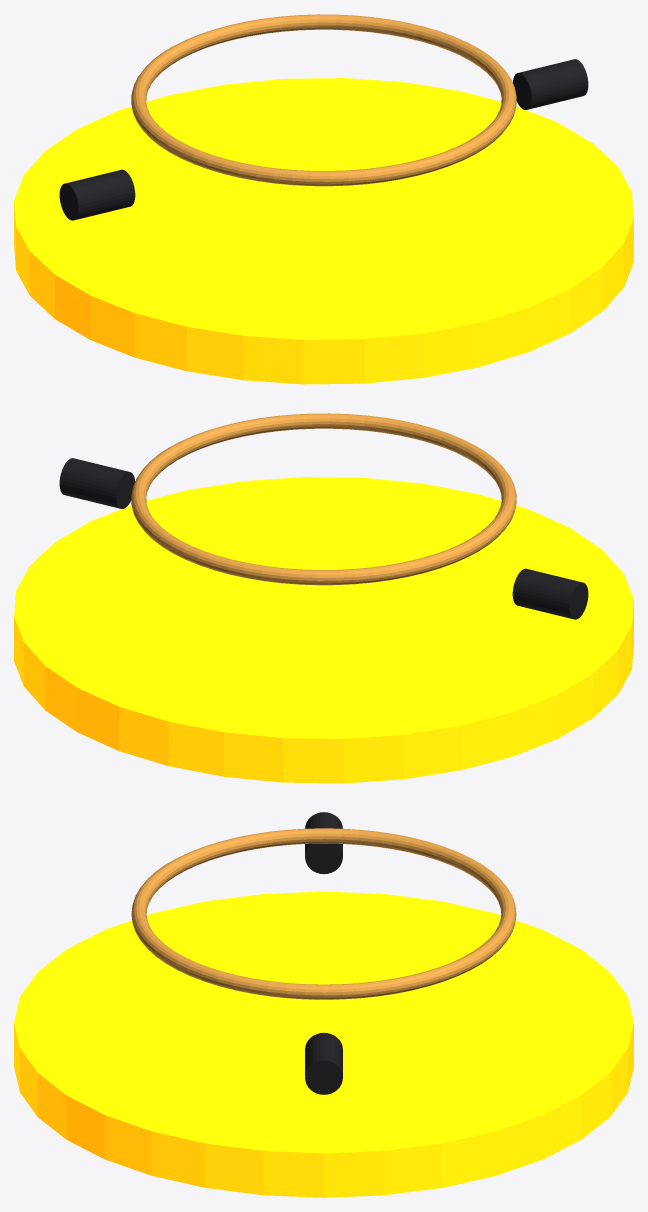
Rendered from fitness_jump_rope.glb.
The picture shows the model from 3 angles, top to bottom: view 1: azimuth 30°, elevation 25°; view 2: azimuth 150°, elevation 25°; view 3: azimuth 270°, elevation 25°; orthographic projection.
Parts seen in each view (by area): view 1: 02_18_Popular_Fitness_Jump_Rope_ROOT_base, 02_18_Popular_Fitness_Jump_Rope_part_01, 02_18_Popular_Fitness_Jump_Rope_part_02, 02_18_Popular_Fitness_Jump_Rope_part_03; view 2: 02_18_Popular_Fitness_Jump_Rope_ROOT_base, 02_18_Popular_Fitness_Jump_Rope_part_01, 02_18_Popular_Fitness_Jump_Rope_part_02, 02_18_Popular_Fitness_Jump_Rope_part_03; view 3: 02_18_Popular_Fitness_Jump_Rope_ROOT_base, 02_18_Popular_Fitness_Jump_Rope_part_01, 02_18_Popular_Fitness_Jump_Rope_part_03, 02_18_Popular_Fitness_Jump_Rope_part_02.
Boxes of the visible parts, left/top/right/bottom form: 02_18_Popular_Fitness_Jump_Rope_ROOT_base: left=14, top=78, right=633, bottom=384; 02_18_Popular_Fitness_Jump_Rope_part_01: left=131, top=14, right=516, bottom=186; 02_18_Popular_Fitness_Jump_Rope_part_02: left=59, top=169, right=135, bottom=220; 02_18_Popular_Fitness_Jump_Rope_part_03: left=513, top=59, right=588, bottom=109; 02_18_Popular_Fitness_Jump_Rope_ROOT_base: left=14, top=477, right=633, bottom=783; 02_18_Popular_Fitness_Jump_Rope_part_01: left=131, top=413, right=516, bottom=585; 02_18_Popular_Fitness_Jump_Rope_part_02: left=512, top=568, right=588, bottom=619; 02_18_Popular_Fitness_Jump_Rope_part_03: left=59, top=458, right=134, bottom=508; 02_18_Popular_Fitness_Jump_Rope_ROOT_base: left=14, top=891, right=633, bottom=1197; 02_18_Popular_Fitness_Jump_Rope_part_01: left=131, top=828, right=516, bottom=999; 02_18_Popular_Fitness_Jump_Rope_part_03: left=305, top=1032, right=342, bottom=1094; 02_18_Popular_Fitness_Jump_Rope_part_02: left=305, top=812, right=342, bottom=873.
Size of the model in its own units: 0.76 by 0.216 by 0.76.
